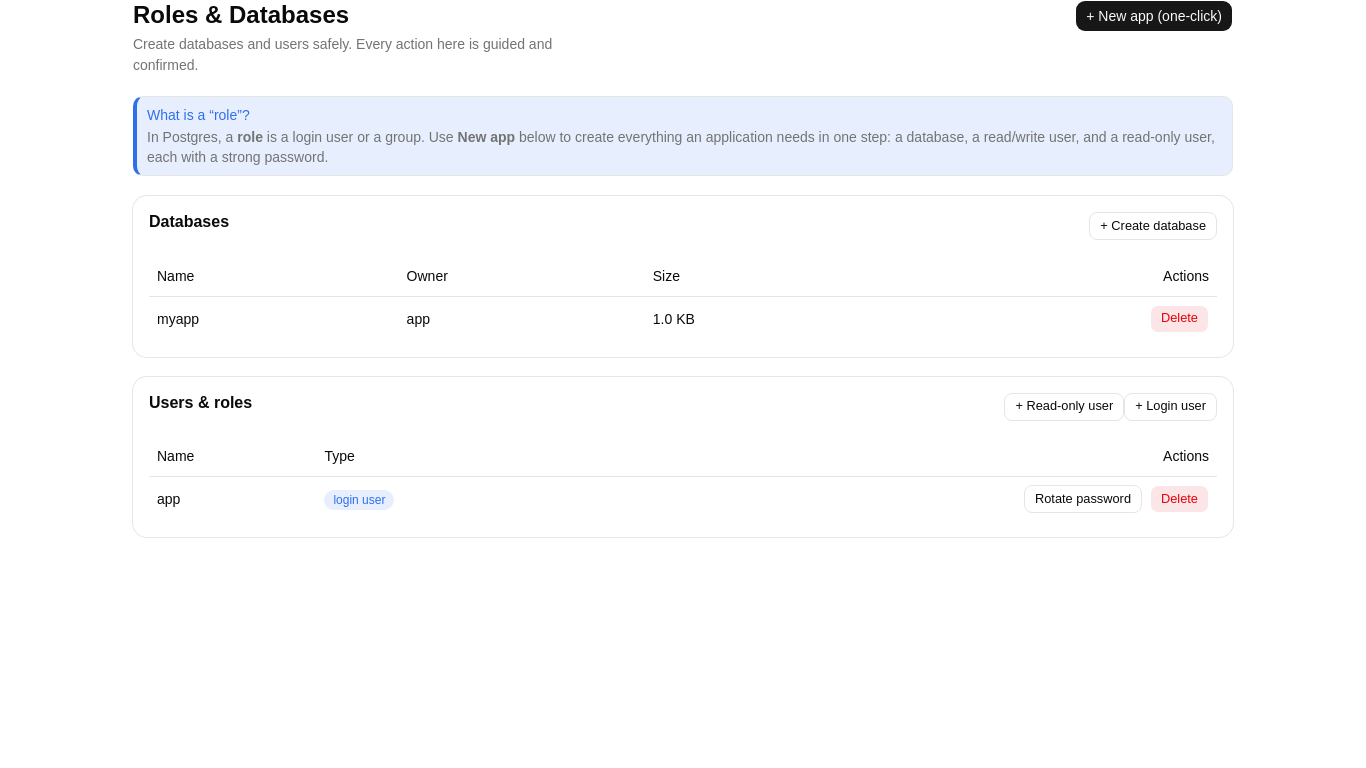
Test case: RolesDatabases › opens the create-database dialog with an owner select
Expected: the text "myapp" is shown, [149,296,399,340]
Click the button "+ Create database": click(1153, 226) [1089,212,1217,240]
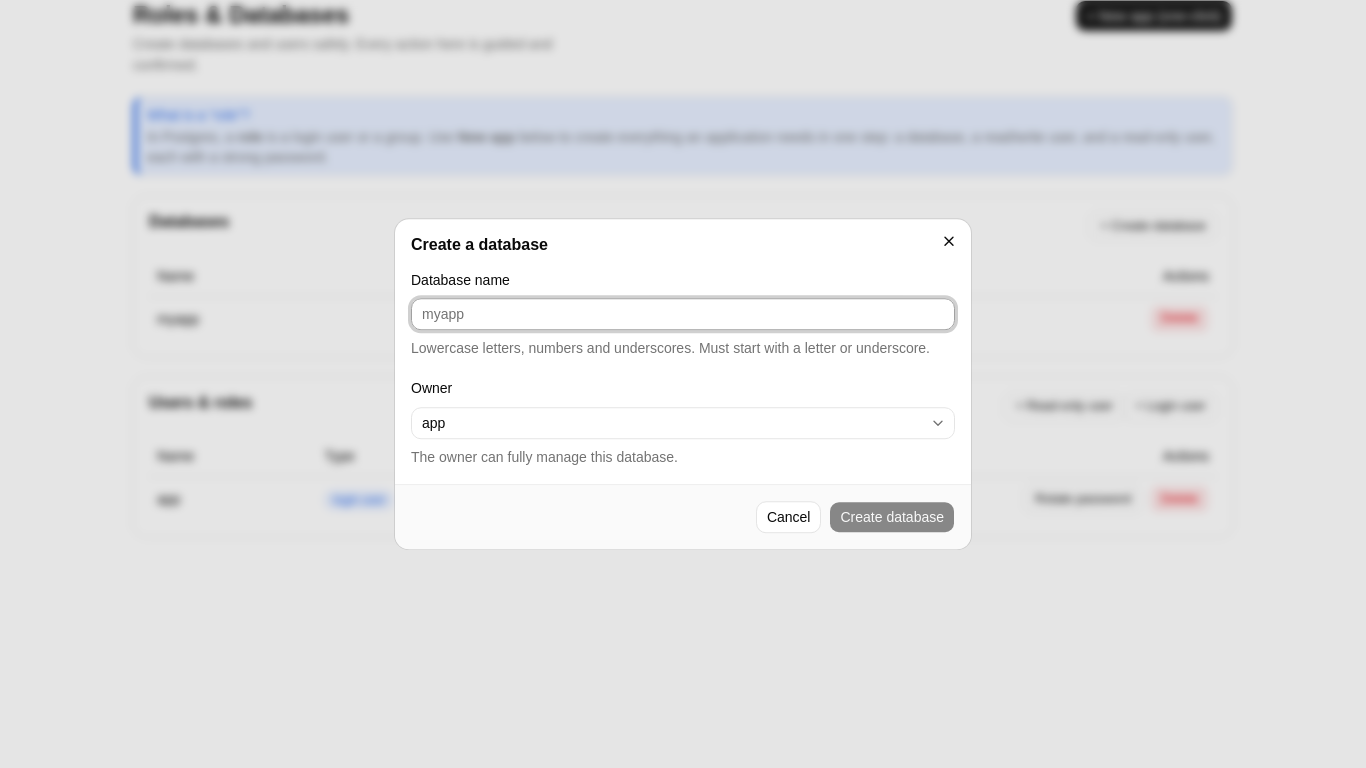
Now the heading "Create a database" is shown, box [411,236,548,253]
Now the field labelled "Database name" is shown, box [411,298,955,330]
Now the text "The owner can fully manage this database." is shown, box [411,449,678,465]
